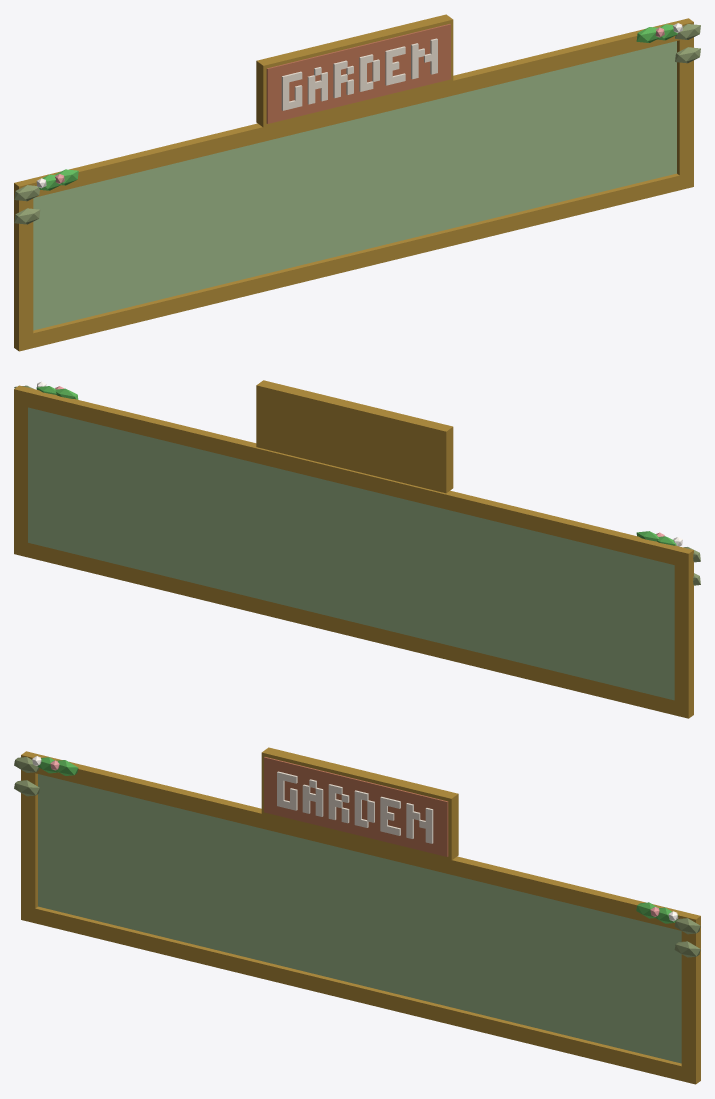
The model's file is CatCafe_Plot_SignGarden.glb.
The picture shows the model from 3 angles, top to bottom: view 1: azimuth 30°, elevation 25°; view 2: azimuth 150°, elevation 25°; view 3: azimuth 330°, elevation 25°; orthographic projection.
Parts seen in each view (by area): view 1: CatCafe_Plot_SignGarden_SignBoard, CatCafe_Plot_SignGarden_Frame, CatCafe_Plot_SignGarden; view 2: CatCafe_Plot_SignGarden_SignBoard, CatCafe_Plot_SignGarden_Frame, CatCafe_Plot_SignGarden; view 3: CatCafe_Plot_SignGarden_SignBoard, CatCafe_Plot_SignGarden_Frame, CatCafe_Plot_SignGarden.
Boxes of the visible parts, x1=… form: CatCafe_Plot_SignGarden_SignBoard: x1=33, y1=41, x2=676, y2=330; CatCafe_Plot_SignGarden_Frame: x1=14, y1=18, x2=693, y2=351; CatCafe_Plot_SignGarden: x1=14, y1=14, x2=700, y2=224; CatCafe_Plot_SignGarden_SignBoard: x1=28, y1=407, x2=674, y2=700; CatCafe_Plot_SignGarden_Frame: x1=14, y1=385, x2=693, y2=718; CatCafe_Plot_SignGarden: x1=14, y1=380, x2=700, y2=585; CatCafe_Plot_SignGarden_SignBoard: x1=38, y1=774, x2=681, y2=1063; CatCafe_Plot_SignGarden_Frame: x1=21, y1=751, x2=700, y2=1084; CatCafe_Plot_SignGarden: x1=14, y1=747, x2=700, y2=957.
Bounding box in the file's own units: 16.99 × 5.39 × 0.4621.
1 material, 1 textured.
